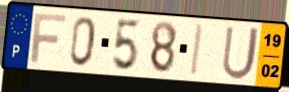0: (69, 15, 99, 68)
5: (110, 17, 144, 73)
8: (149, 20, 178, 75)
F: (29, 12, 68, 65)
I: (188, 22, 206, 78)
U: (220, 24, 262, 82)
